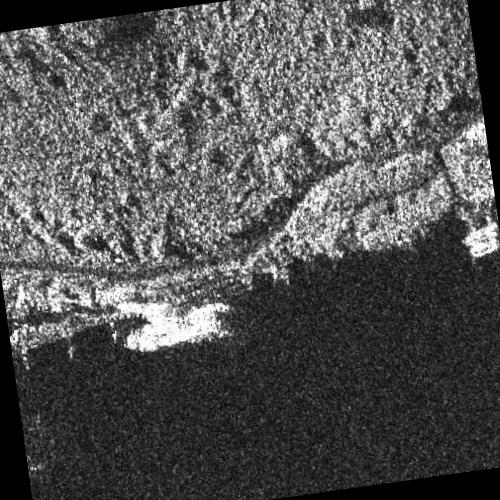ship: (122, 301, 228, 354), (460, 220, 498, 247), (468, 237, 500, 260)
